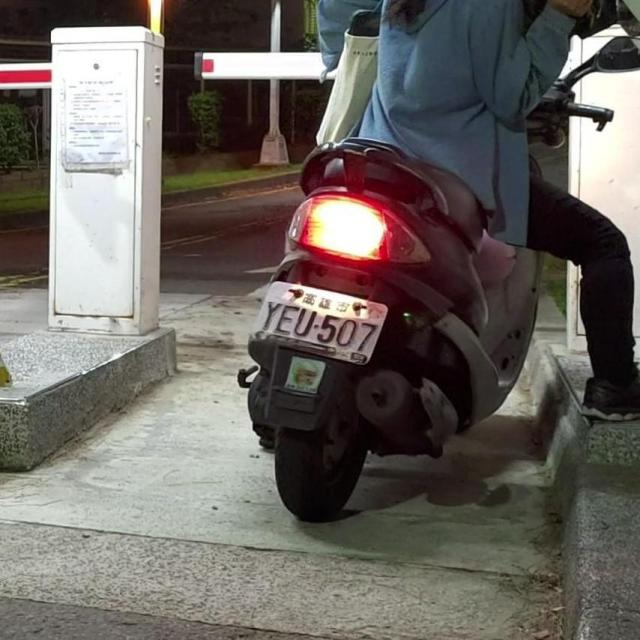W: (256, 278, 387, 364)
